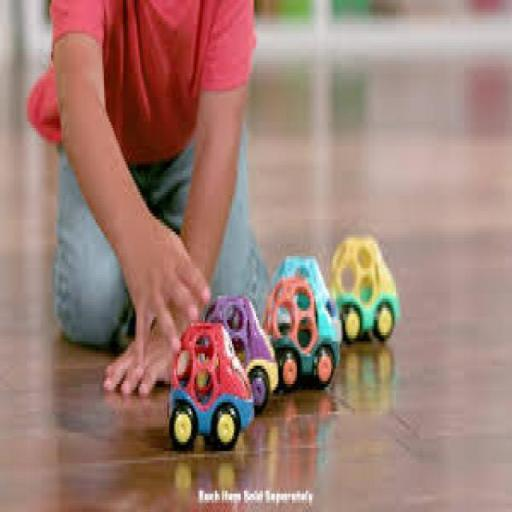baby: (28, 0, 258, 406)
